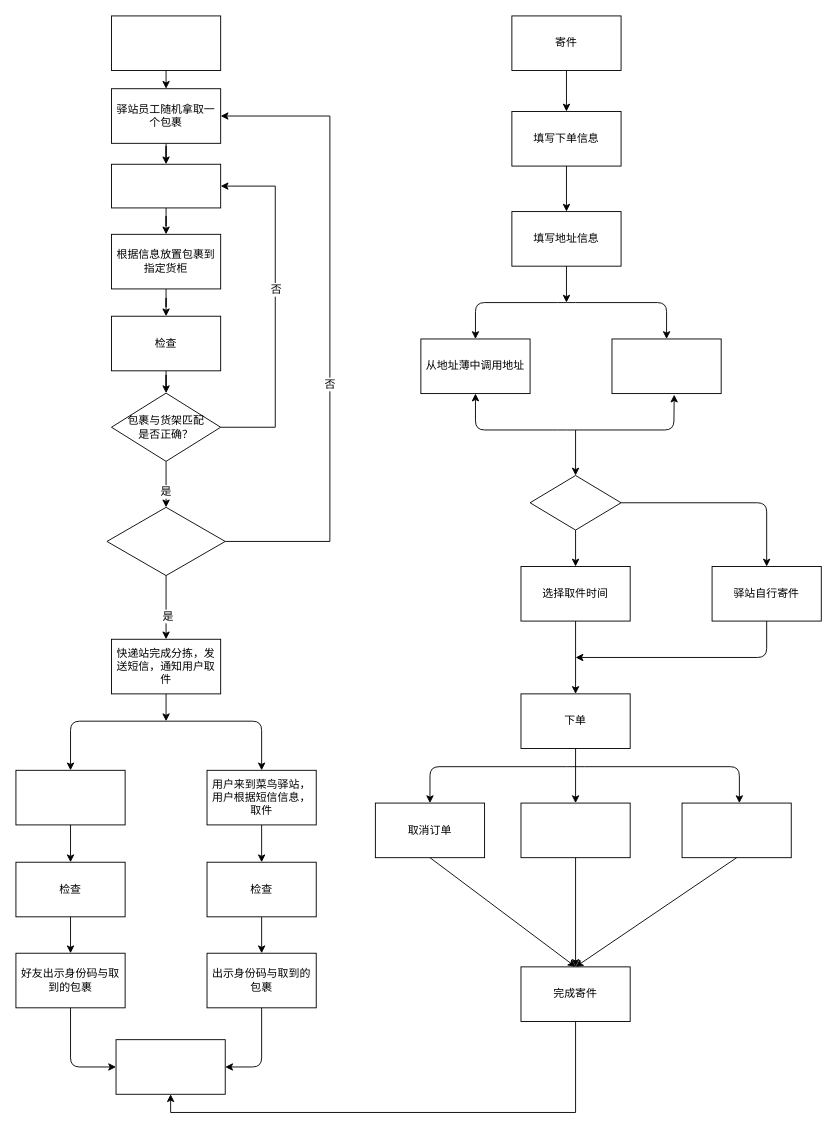
This 837x1136 diagram has some shape labels left out. The shapes that lost their labels are listed below. From the top down, each one's box as (x1, y1, x2, y2) in pixels, then its label:
(111, 15, 221, 71): 包裹进入驿站
(111, 163, 221, 208): 识别信息
(611, 338, 721, 394): 智能填写
(529, 475, 621, 530): 上门取件？
(106, 506, 225, 576): 包裹全部放置完毕
(15, 769, 125, 825): 用户设置好友代取，好友来到驿站
(520, 802, 630, 858): 完善/更改预约信息
(681, 802, 791, 858): 在线客服
(115, 1039, 225, 1094): 系统识别，取件成功 包裹离开驿站
